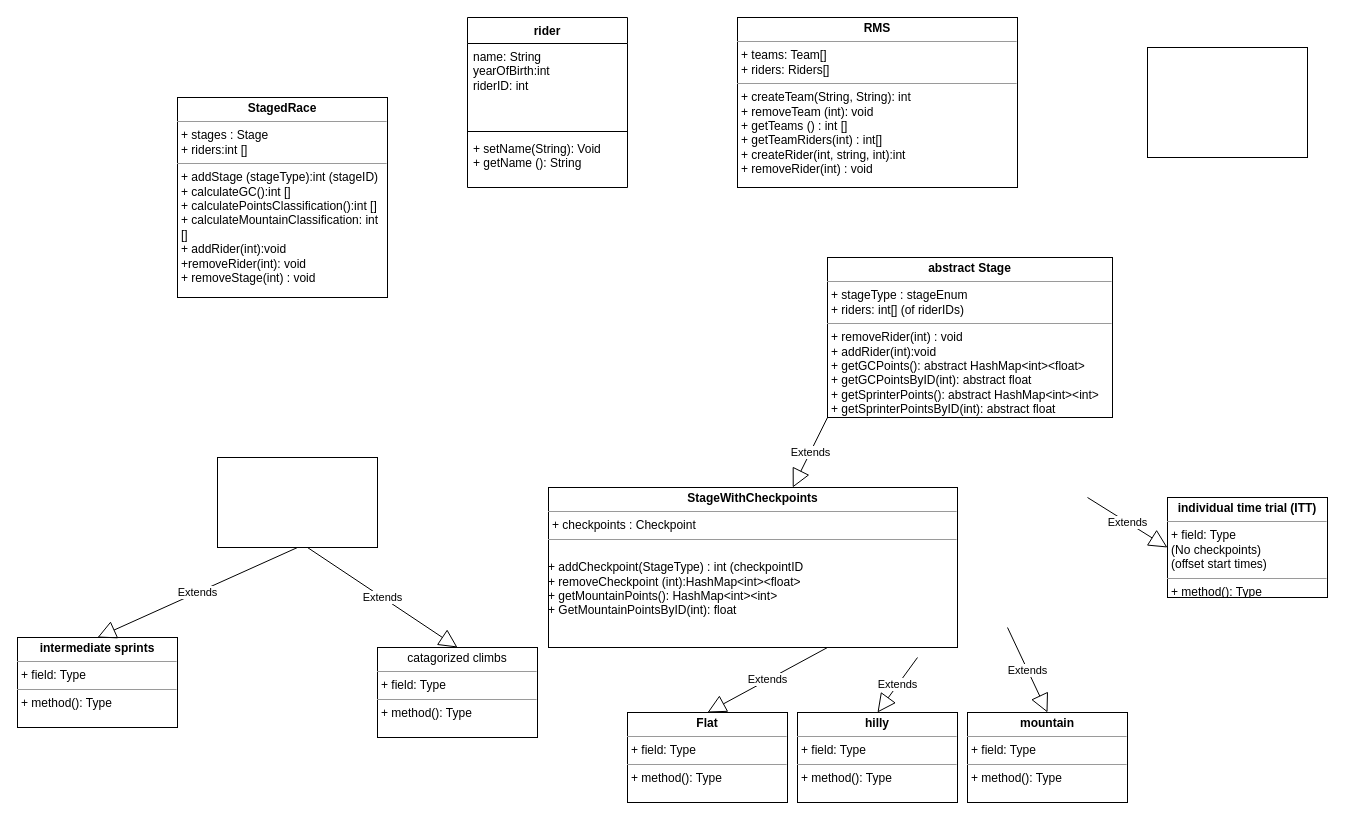
Some shapes in this 1345 by 820 pixel diagram are drawn without their labels. Here are the shapes that lost their labels. From the top down, the box of each, then its label:
(1146, 46, 1308, 158): Team + name:String + ID: int + description : String + method(): Type
(216, 456, 378, 548): Check points + field: Type + method(): Type
